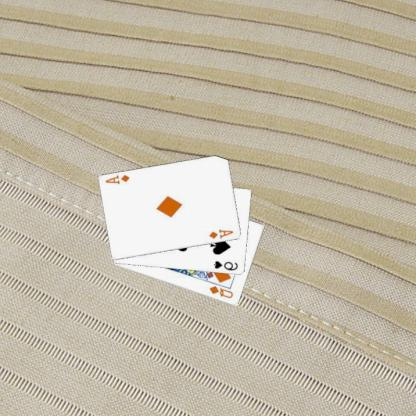6S: (213, 258, 241, 272)
AD: (208, 227, 236, 240), (105, 172, 133, 185)
QD: (208, 283, 236, 300)
